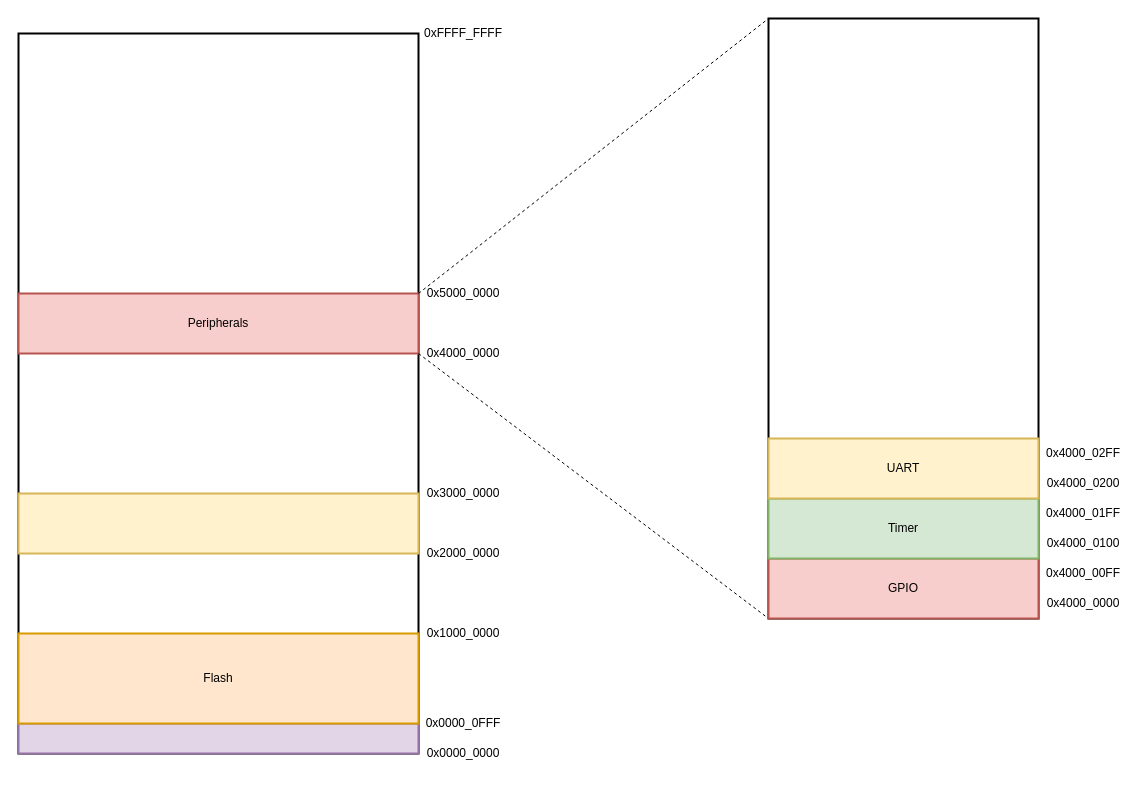
Image size: 1145x785. Some labels were removed from this diagram. Each missing label, with the centre of its shape:
Boot ROM: point 218,738
RAM: point 218,523
